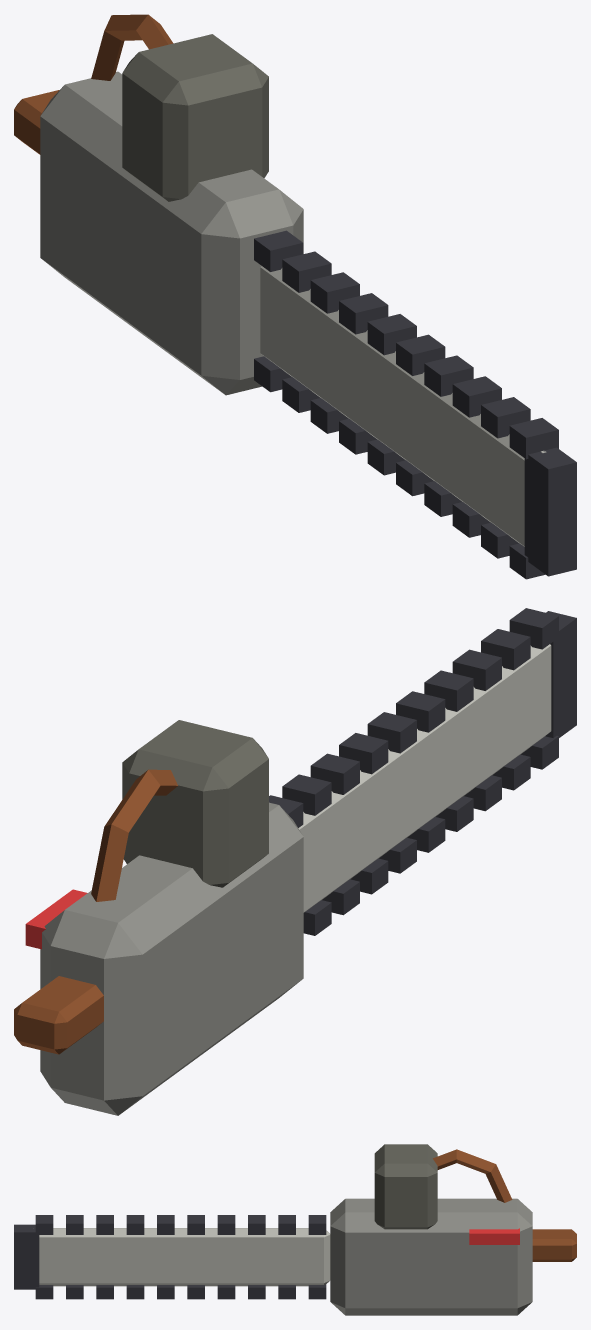
File: StoneChainsaw.fbx
3 views of the same model, one above another, from view 1: azimuth 30°, elevation 25°; view 2: azimuth 150°, elevation 25°; view 3: azimuth 270°, elevation 25° (orthographic). The views are drawn at different scales.
Parts seen in each view (by area): view 1: StoneChainsaw; view 2: StoneChainsaw; view 3: StoneChainsaw.
Boxes of the visible parts, x1=… form: StoneChainsaw: x1=14, y1=14, x2=576, y2=579; StoneChainsaw: x1=14, y1=608, x2=576, y2=1115; StoneChainsaw: x1=14, y1=1144, x2=576, y2=1315.
Size of the model in its own units: 0.57 by 1.39 by 4.45.
Materials: 1 (1 with a texture image).
